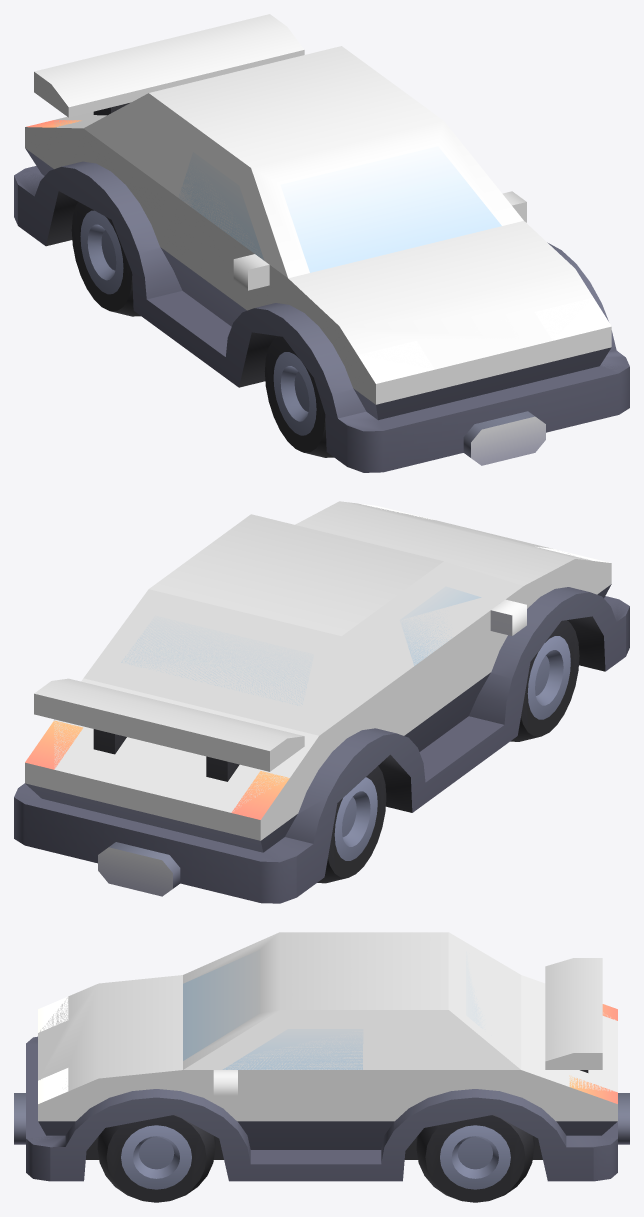
Rendered from falcao-kenney.glb.
3 views of the same model, one above another, from view 1: azimuth 30°, elevation 25°; view 2: azimuth 150°, elevation 25°; view 3: azimuth 270°, elevation 25° (orthographic). The views are drawn at different scales.
Parts seen in each view (by area): view 1: body (×2), wheel_fr, wheel_rr; view 2: body (×2), wheel_fr, wheel_rr; view 3: body (×2), wheel_fl, wheel_rl.
Boxes of the visible parts, box(x1,y1,x2,y2) form: body (×2): box(14, 14, 629, 472); wheel_fr: box(264, 336, 333, 457); wheel_rr: box(71, 202, 140, 316); body (×2): box(14, 501, 629, 903); wheel_fr: box(510, 620, 579, 741); wheel_rr: box(317, 766, 386, 883); body (×2): box(14, 932, 629, 1181); wheel_fl: box(97, 1114, 215, 1202); wheel_rl: box(416, 1114, 534, 1202).
Size of the model in its own units: 1.9 by 1.48 by 4.4.
Materials: 9 (9 with a texture image).
